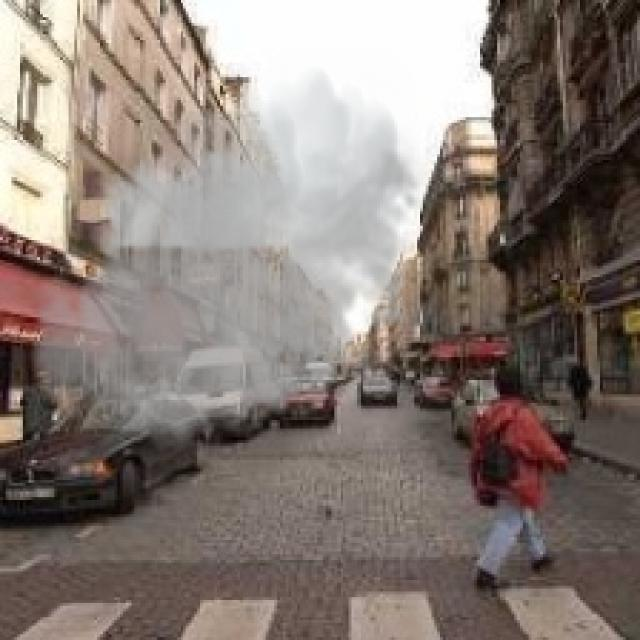Smoke: (22, 51, 434, 466)
